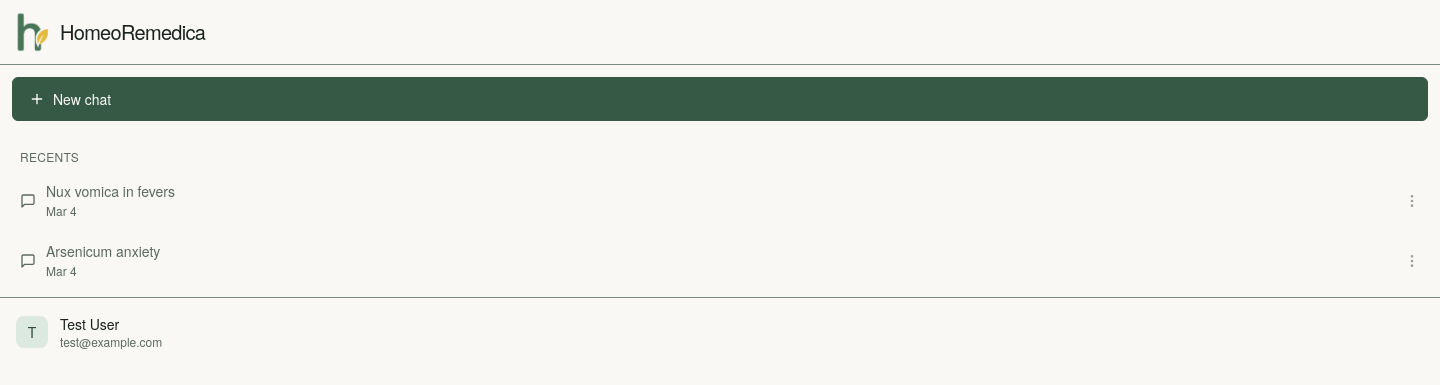
Test case: ChatSidebar › hides settings for Google-only accounts
Press the mouse on the button with aria-label "Account menu": [32, 332] box [8,306,1432,358]
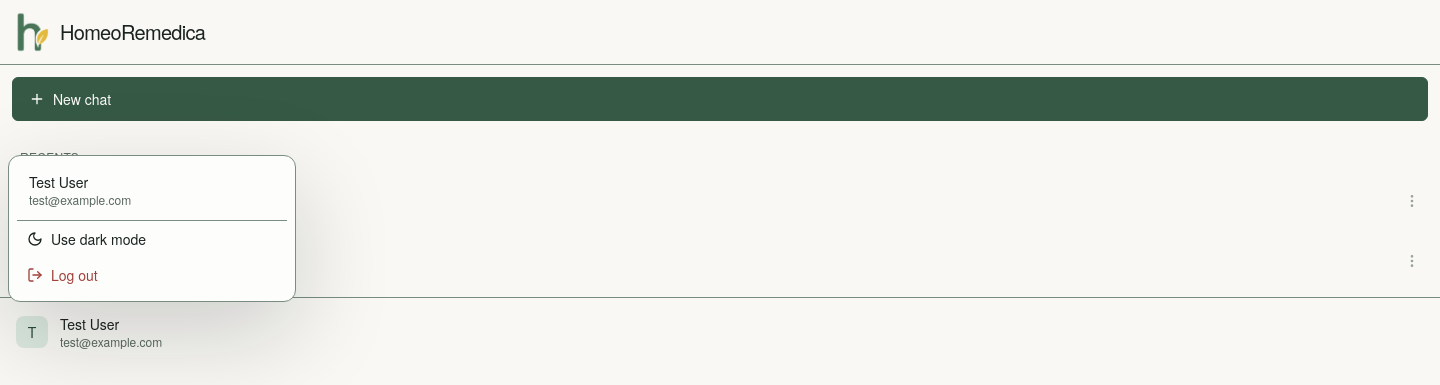
Expected: the menu item "Log out" is shown, [27,265,98,285]
